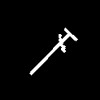double_crochet: (30, 28, 77, 74)
